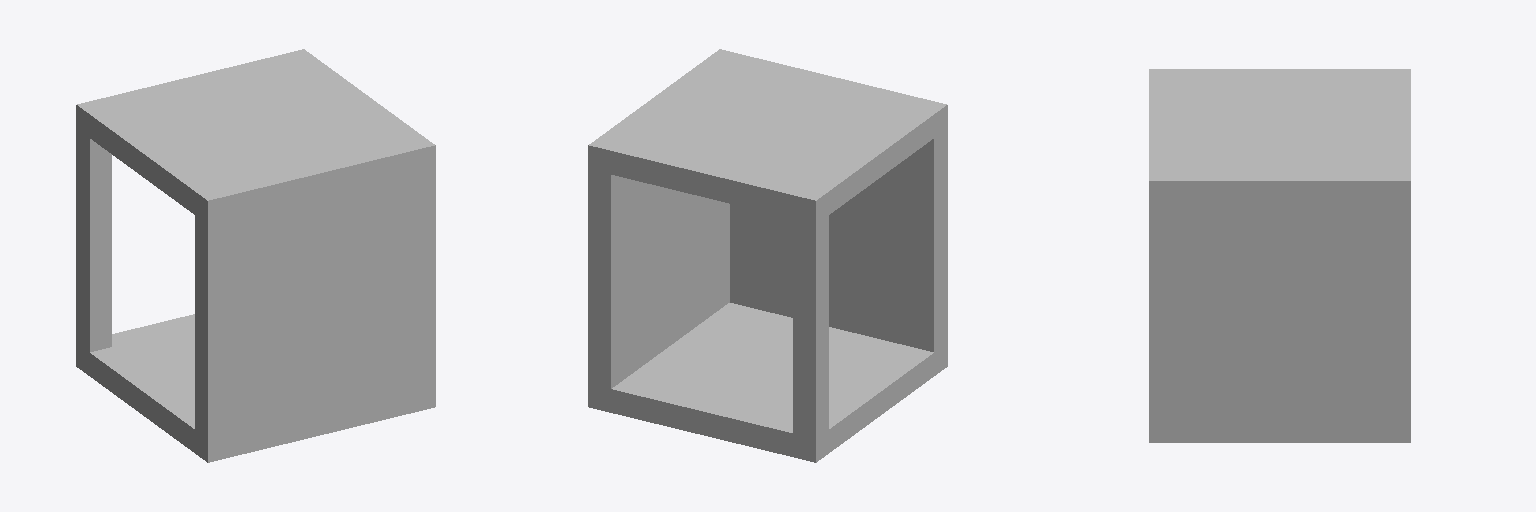
The model's file is wallSet_6.obj.
3 renders of one model, left to right at view 1: azimuth 30°, elevation 25°; view 2: azimuth 150°, elevation 25°; view 3: azimuth 270°, elevation 25°, orthographic.
Parts seen in each view (by area): view 1: wallSet_6_Cube.008; view 2: wallSet_6_Cube.008; view 3: wallSet_6_Cube.008.
Boxes of the visible parts, box(x1,y1,x2,y2) form: wallSet_6_Cube.008: box(76, 49, 435, 462); wallSet_6_Cube.008: box(588, 49, 947, 462); wallSet_6_Cube.008: box(1149, 69, 1410, 442).
Bounding box in the file's own units: 2 × 2.2 × 2.